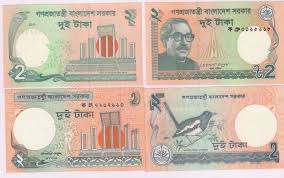2_taka: (12, 91, 142, 167), (150, 91, 280, 166), (151, 6, 278, 80), (10, 8, 138, 81)
